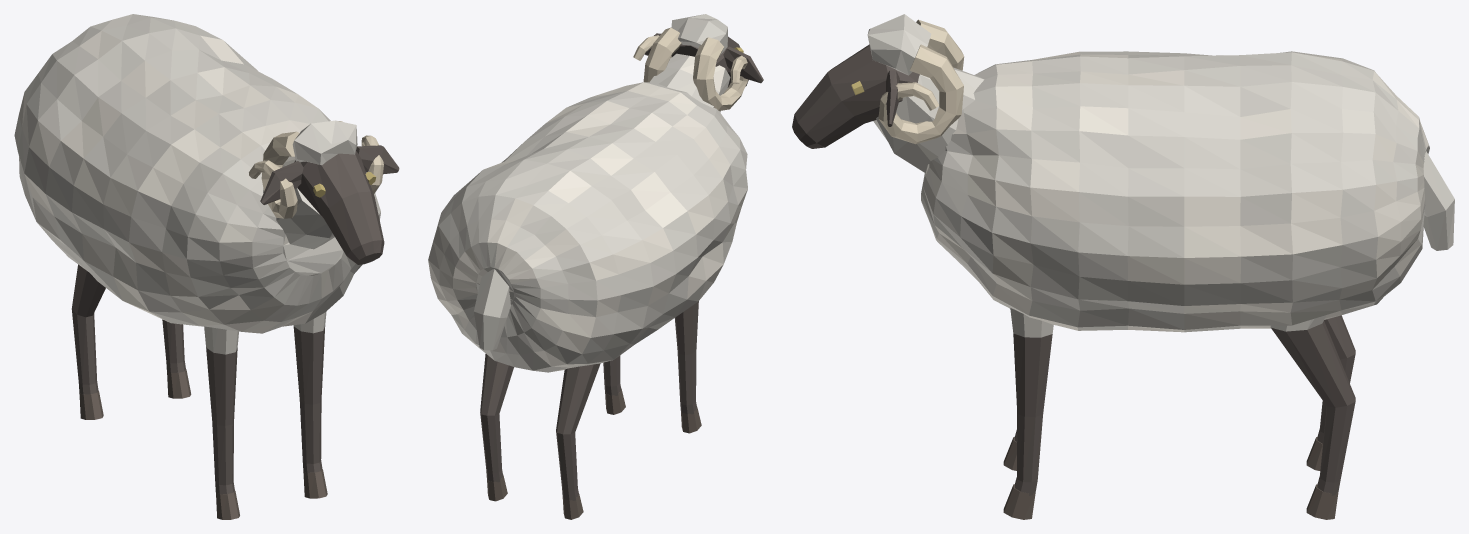
Rendered from sheep_male.glb.
The picture shows the model from 3 angles, left to right: view 1: azimuth 30°, elevation 25°; view 2: azimuth 150°, elevation 25°; view 3: azimuth 270°, elevation 25°; orthographic projection. The views are drawn at different scales.
Visible parts, largest first — view 1: Body, Head.Skull, Leg.FR, Leg.FL, Leg.BR, Head.Wool, Head.Horn#2, Head.Neck, Leg.BL, Head.Ear#2, Head.Ear, Leg.FL.Hoof (+4 smaller); view 2: Body, Leg.BR, Leg.BL, Head.Horn#2, Body.Tail, Leg.FR, Head.Neck, Head.Horn, Head.Wool, Leg.FL, Head.Ear#2, Head.Skull; view 3: Body, Head.Skull, Leg.BL, Leg.FL, Head.Horn, Head.Neck, Head.Wool, Body.Tail, Leg.BR, Head.Horn#2, Leg.FL.Hoof, Leg.BL.Hoof.
Boxes of the visible parts, x1,y1,x2,y2 form: Body: (14, 14, 380, 333); Head.Skull: (294, 151, 384, 264); Leg.FR: (204, 326, 238, 494); Leg.FL: (293, 311, 326, 472); Leg.BR: (71, 264, 105, 394); Head.Wool: (292, 120, 357, 165); Head.Horn#2: (249, 131, 299, 218); Head.Neck: (263, 156, 334, 249); Leg.BL: (162, 319, 185, 372); Head.Ear#2: (260, 161, 303, 204); Head.Ear: (356, 145, 399, 174); Leg.FL.Hoof: (303, 469, 327, 498); Body: (428, 82, 747, 372); Leg.BR: (556, 363, 600, 500); Leg.BL: (480, 354, 513, 482); Head.Horn#2: (693, 37, 748, 110); Body.Tail: (474, 269, 510, 350); Leg.FR: (674, 301, 698, 414); Head.Neck: (649, 53, 730, 112); Head.Horn: (633, 27, 681, 82); Head.Wool: (671, 14, 727, 55); Leg.FL: (603, 355, 621, 395); Head.Ear#2: (723, 46, 763, 83); Head.Skull: (671, 36, 748, 87); Body: (921, 51, 1429, 332); Head.Skull: (792, 44, 919, 148); Leg.BL: (1270, 315, 1355, 495); Leg.FL: (1010, 308, 1053, 495); Head.Horn: (878, 44, 963, 144); Head.Neck: (873, 67, 984, 172); Head.Wool: (867, 14, 931, 75); Body.Tail: (1423, 151, 1454, 250); Leg.BR: (1317, 315, 1355, 443); Head.Horn#2: (916, 19, 964, 70); Leg.FL.Hoof: (1003, 484, 1035, 519); Leg.BL.Hoof: (1306, 484, 1338, 519).
Bounding box in the file's own units: 0.572 × 0.9299 × 1.18.
